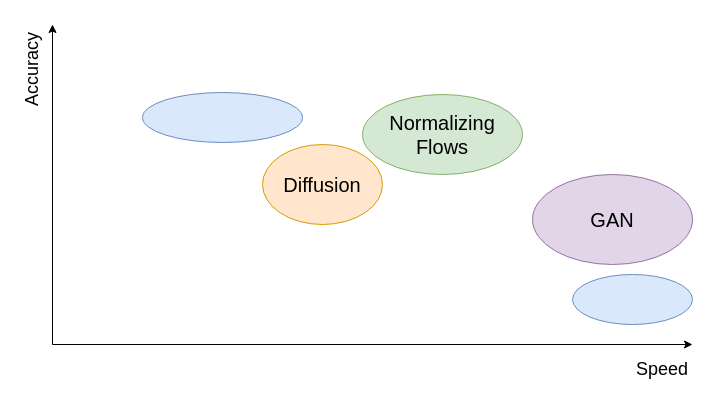
This 718x402 diagram has some shape labels left out. Each missing label, with the centre of its shape:
"Autoregressive" goes at (x=222, y=117).
"VAE" goes at (x=632, y=299).
